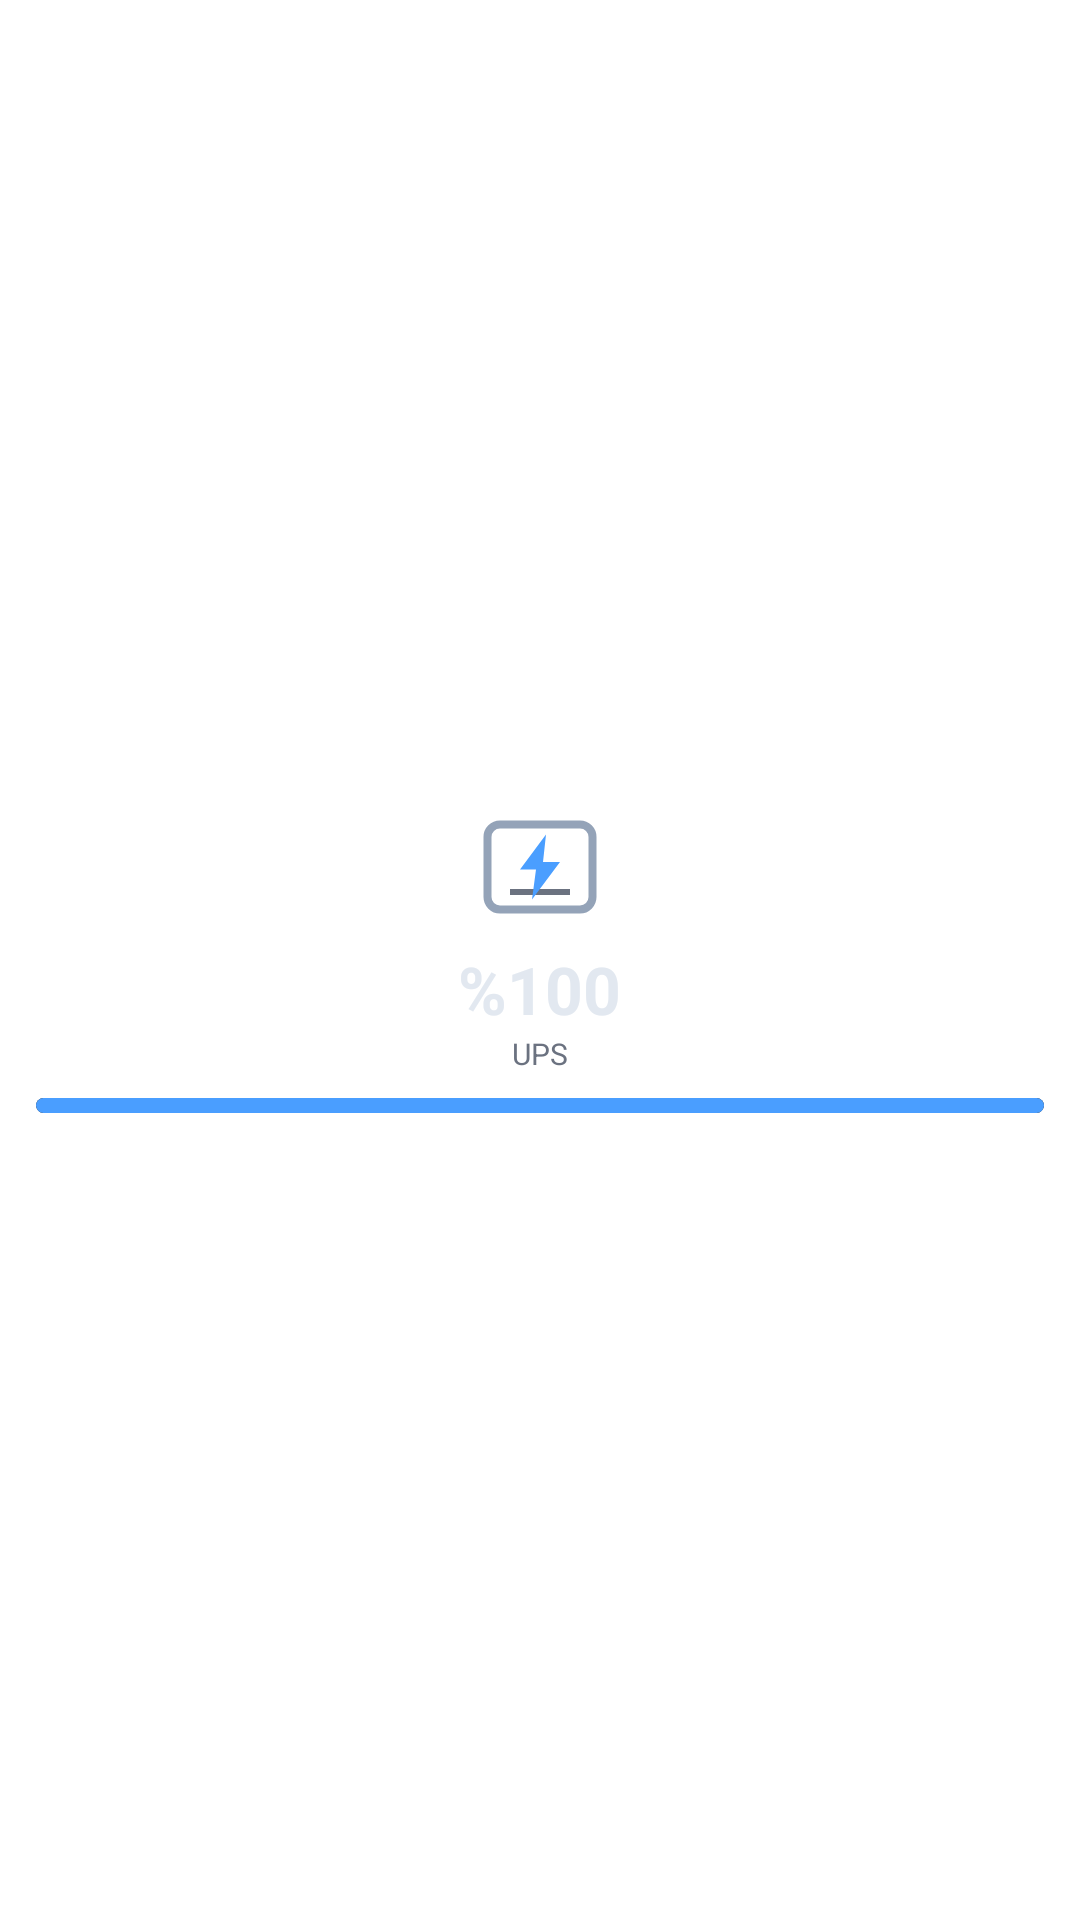

Screen size 1080×1920. Icon name, then its center in pixels as (x=x, y=y):
ups unit: (x=540, y=867)
